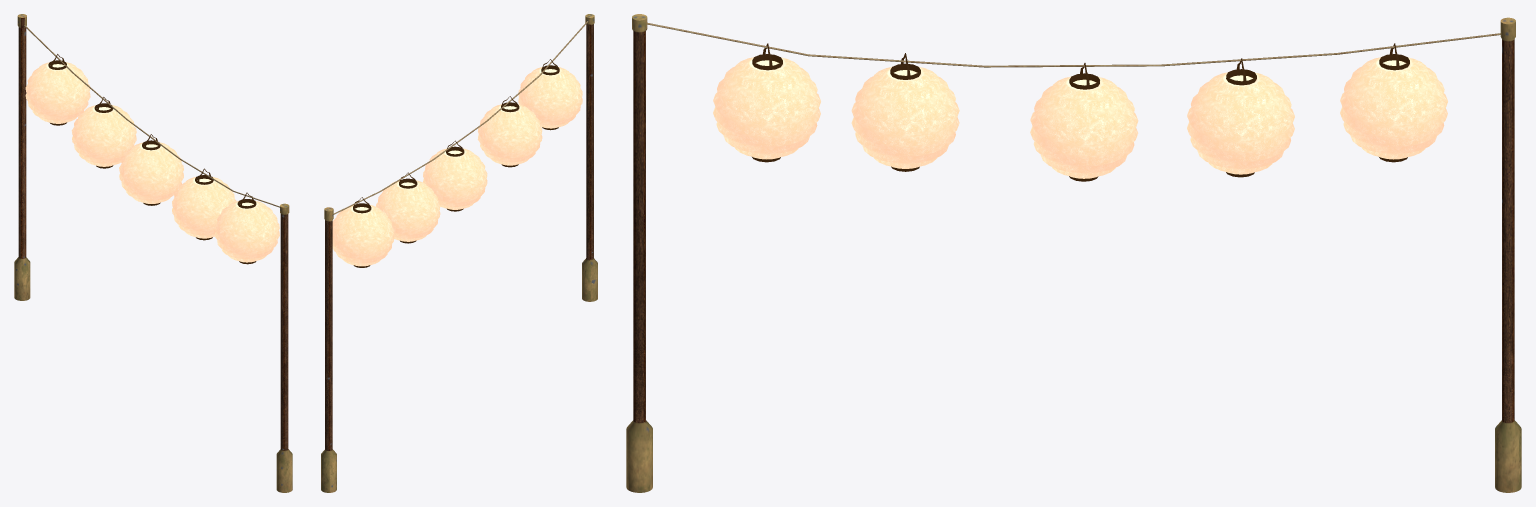
The model's file is lanternAndPoles3.fbx.
3 renders of one model, left to right at view 1: azimuth 30°, elevation 25°; view 2: azimuth 150°, elevation 25°; view 3: azimuth 270°, elevation 25°, orthographic. The views are drawn at different scales.
Visible parts, largest first — view 1: polesAndRope, paperLantern_red4, paperLantern_red1, paperLantern_red2, paperLantern_red3, paperLantern_red; view 2: polesAndRope, paperLantern_red, paperLantern_red2, paperLantern_red1, paperLantern_red4, paperLantern_red3; view 3: polesAndRope, paperLantern_red1, paperLantern_red, paperLantern_red2, paperLantern_red3, paperLantern_red4.
Boxes of the visible parts, x1,y1,x2,y2 form: polesAndRope: (14,14,292,492); paperLantern_red4: (215,192,279,264); paperLantern_red1: (119,134,183,205); paperLantern_red2: (25,54,90,125); paperLantern_red3: (71,97,136,168); paperLantern_red: (172,168,236,240); polesAndRope: (321,14,597,492); paperLantern_red: (477,96,542,167); paperLantern_red2: (332,197,394,267); paperLantern_red1: (423,140,487,211); paperLantern_red4: (518,59,582,130); paperLantern_red3: (376,172,440,243); polesAndRope: (626,14,1521,492); paperLantern_red1: (1030,63,1138,181); paperLantern_red: (851,53,959,171); paperLantern_red2: (1340,43,1447,162); paperLantern_red3: (1187,58,1294,177); paperLantern_red4: (713,43,820,162).
Size of the model in its own units: 2.03 by 9.5 by 16.4.
Materials: 2 (2 with a texture image).
